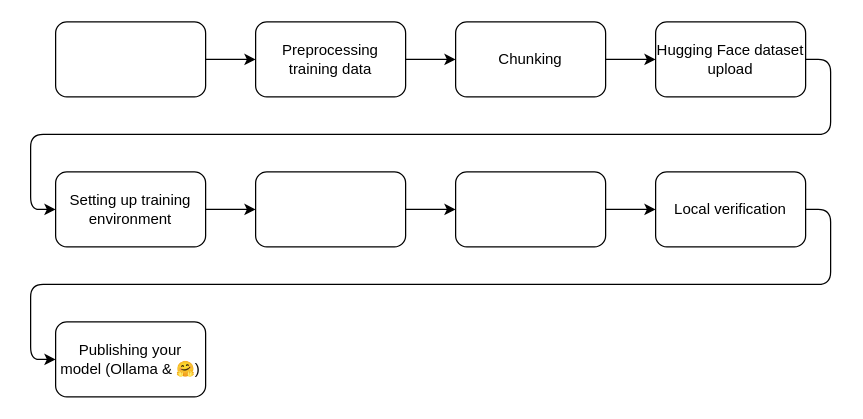
Some shapes in this 863 by 419 pixel diagram are drawn without their labels. The shapes that lost their labels are listed below. From the top down, each one's centre as x and y in pixels, then its label:
(130,59): Acquiring training data
(330,209): Training an adapter
(530,209): Conversion and Quantization
